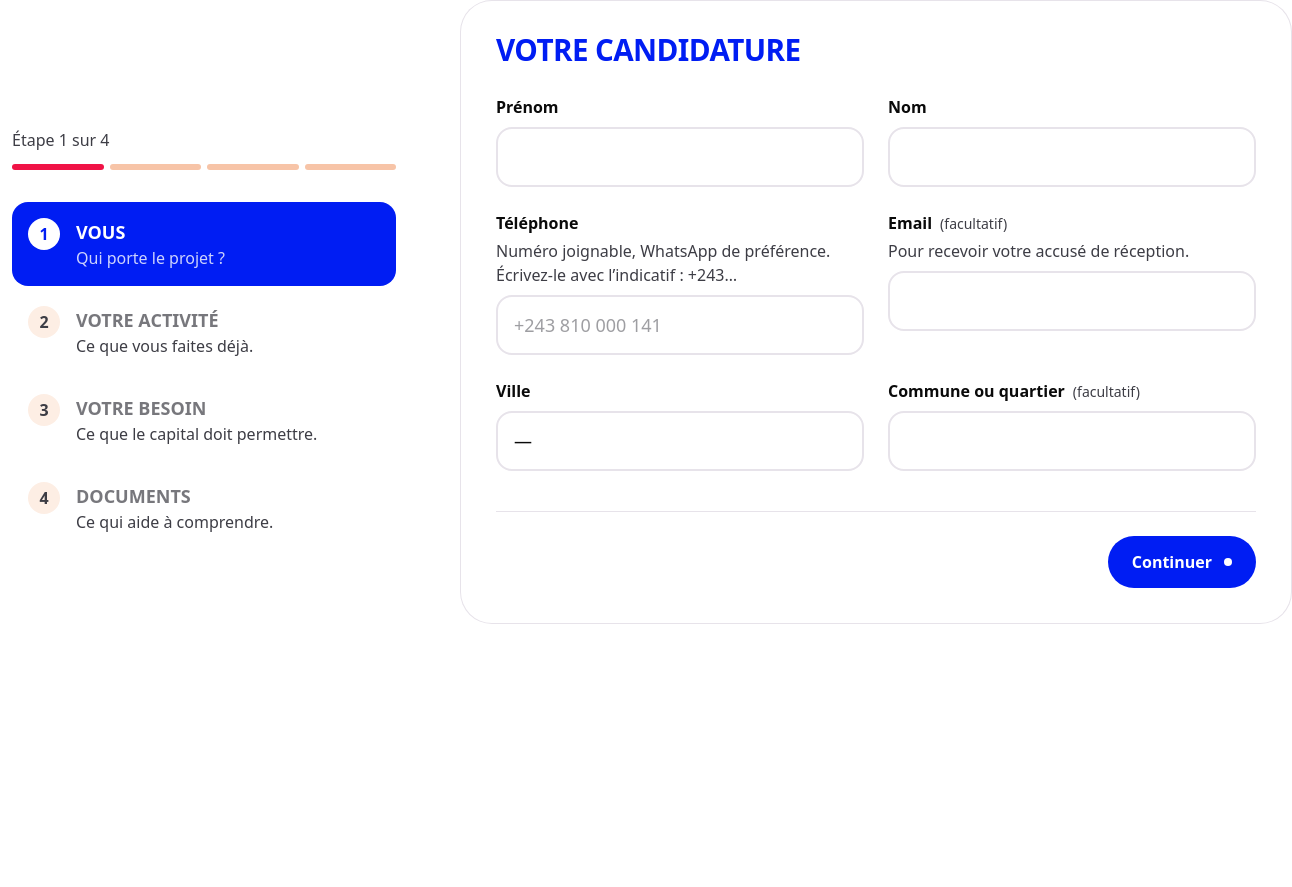
it: ApplicationForm › passe à l’étape suivante quand les champs requis sont remplis
Type "Joseph" into the field labelled "Prénom".
click(680, 157); type("Joseph")  # box [496,127,864,187]
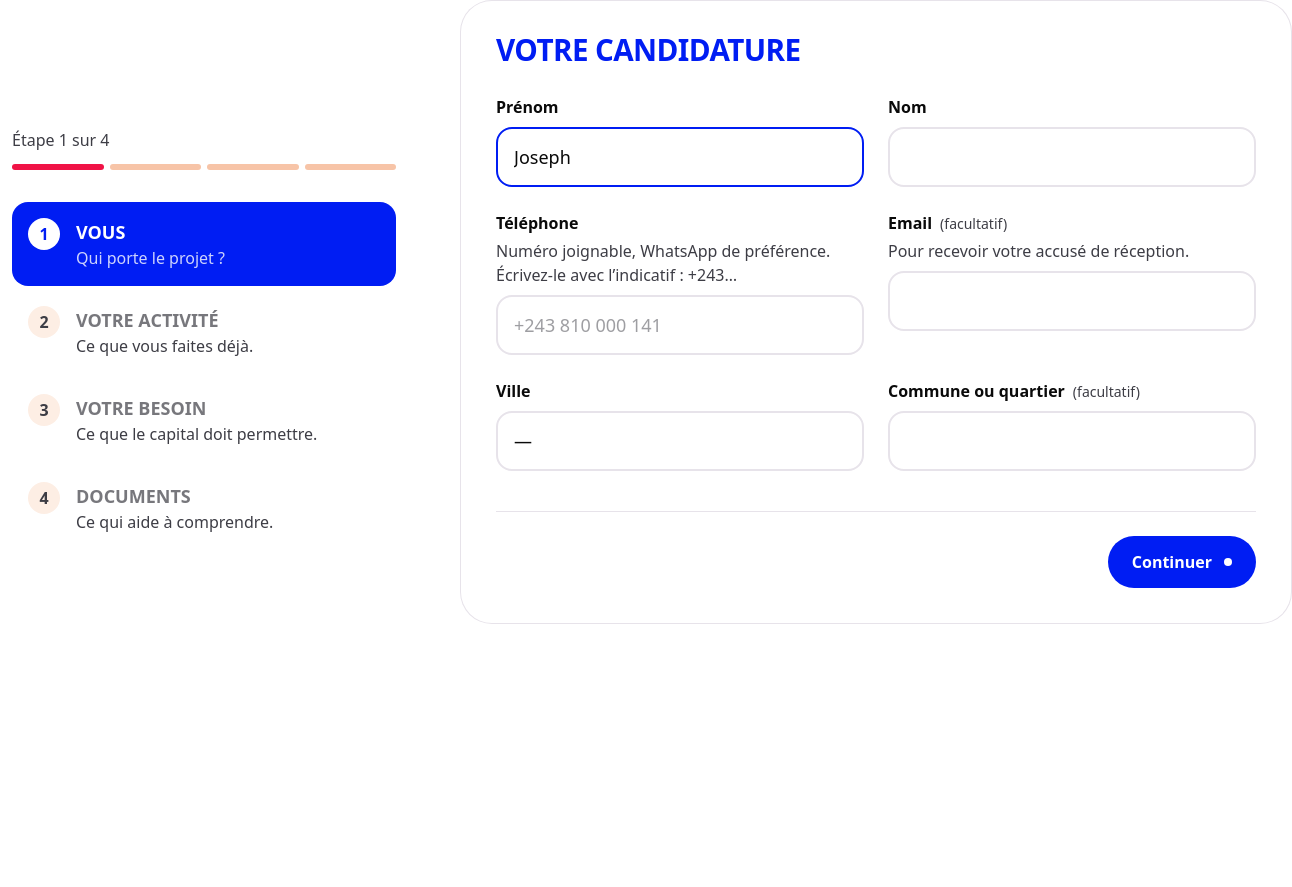
Type "Mbala" into the field labelled "Nom".
click(1072, 157); type("Mbala")  # box [888,127,1256,187]
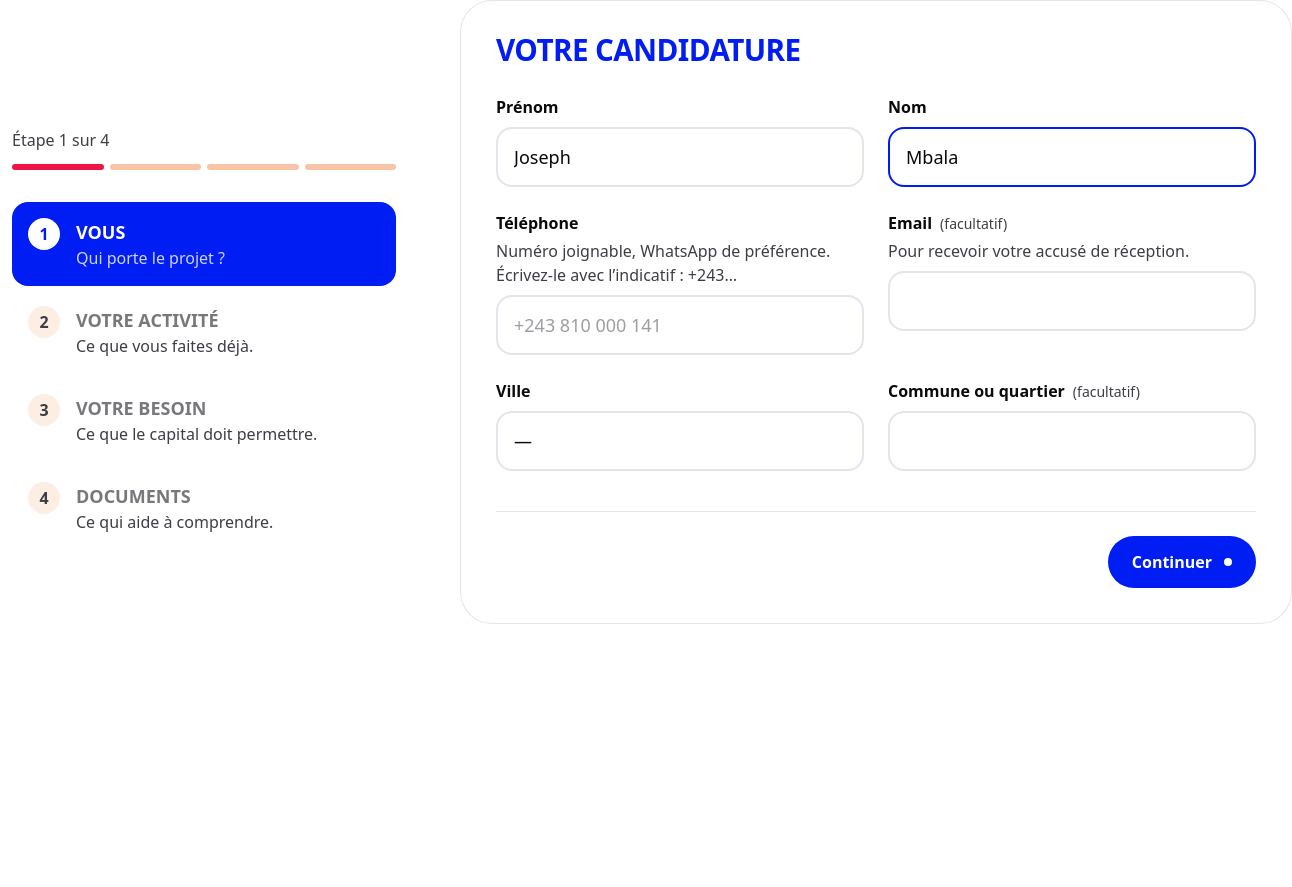
Type "+243 810 000 000" into the field labelled "Téléphone".
click(680, 325); type("+243 810 000 000")  # box [496,295,864,355]
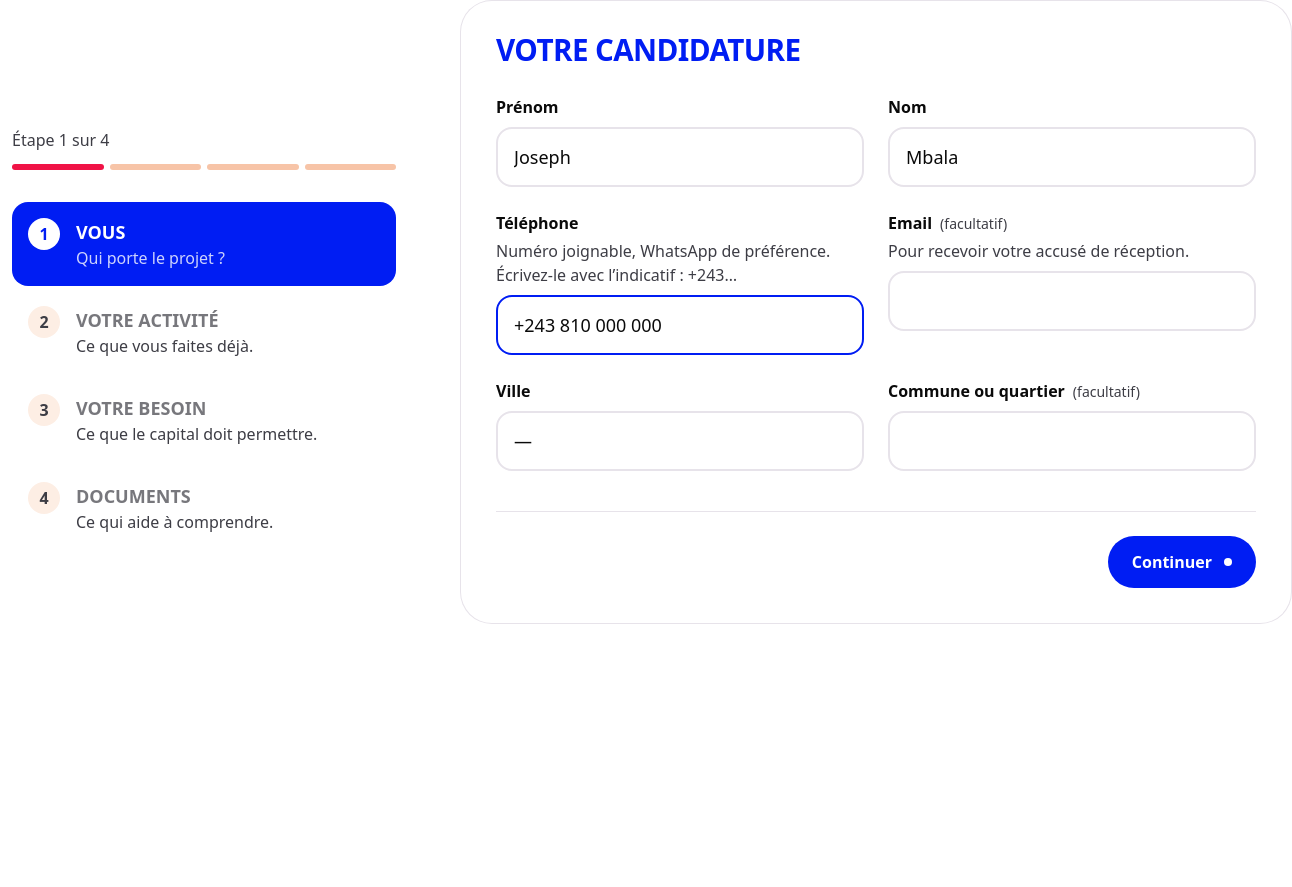
Select "Kinshasa" in the dropdown labelled "Ville" at {"x": 680, "y": 441}, box [496,411,864,471]
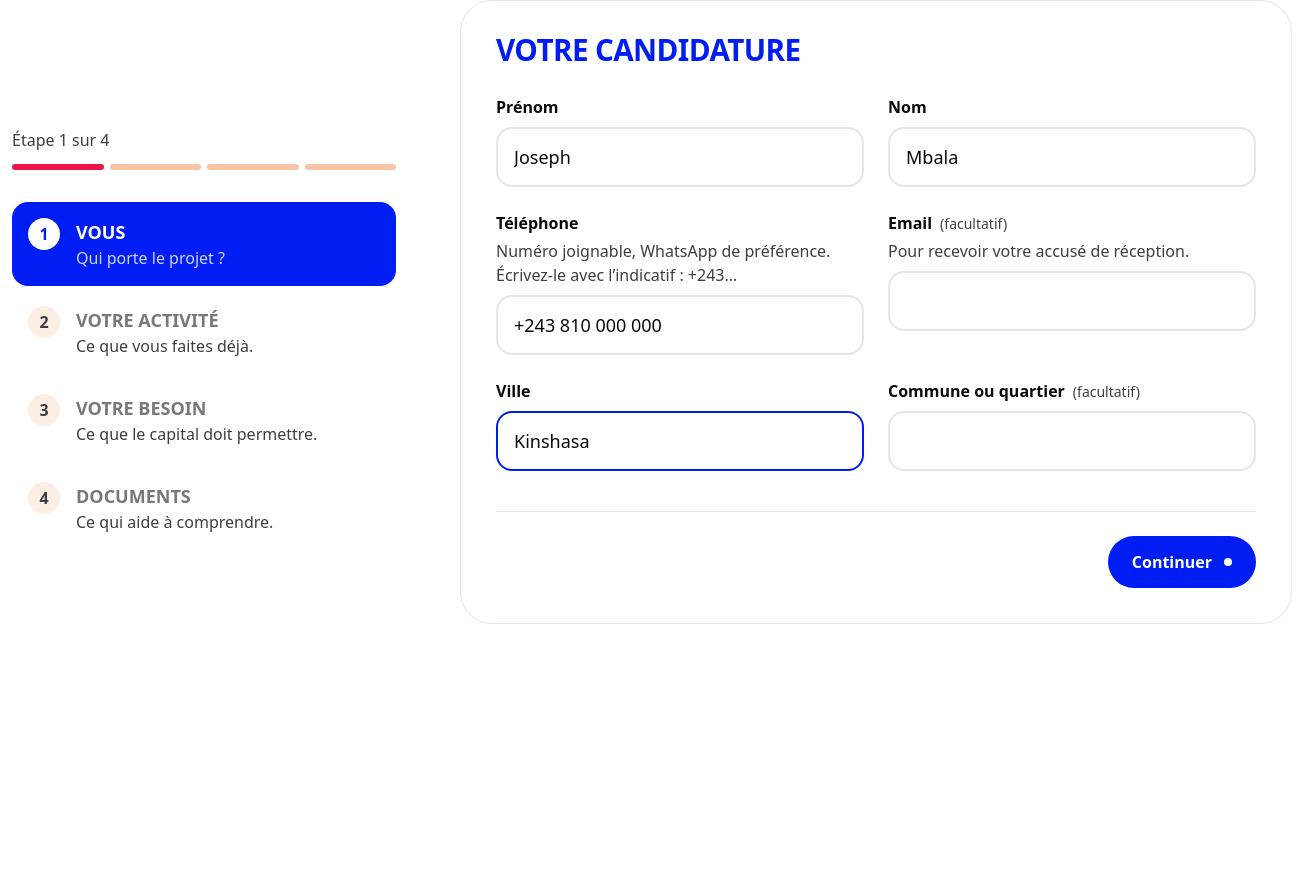
Click the button "Continuer".
click(1182, 562)  # box [1108,536,1256,588]
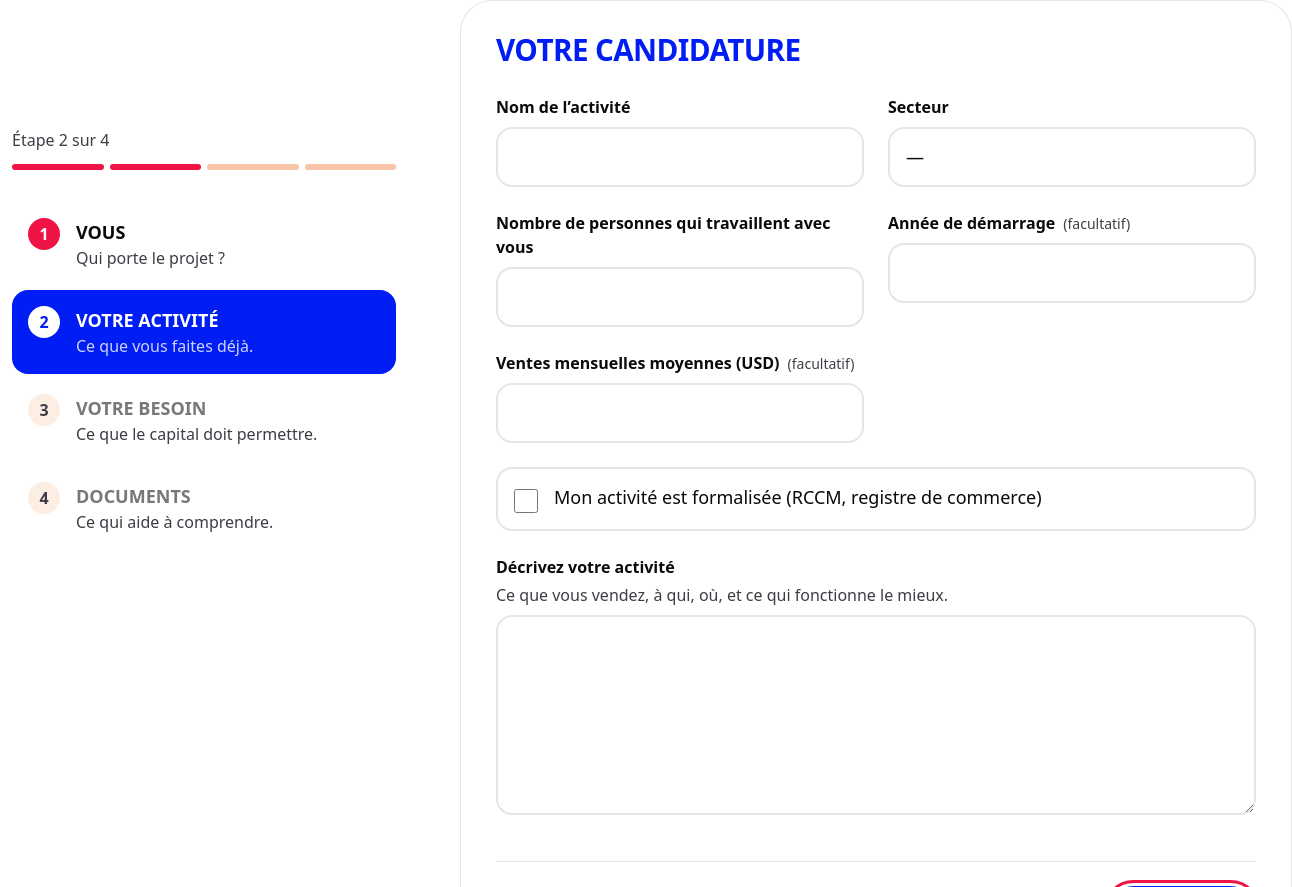
Result: the field labelled "Nom de l’activité" is shown at [496,127,864,187]
